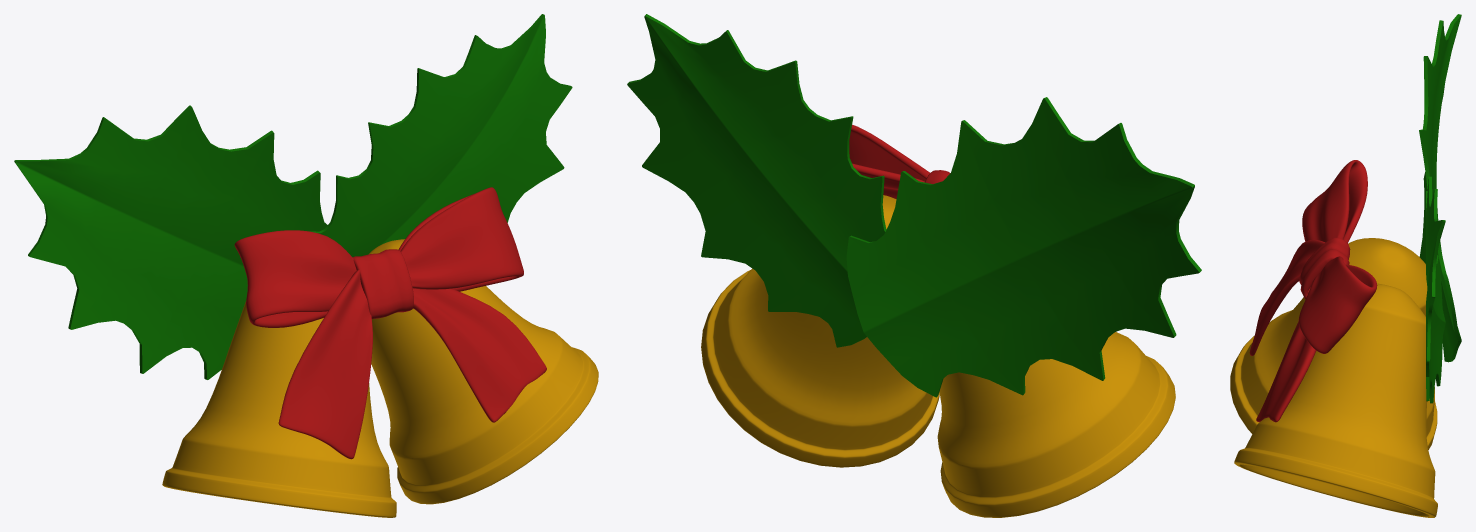
The model's file is christmas_bell.glb.
3 renders of one model, left to right at view 1: azimuth 30°, elevation 25°; view 2: azimuth 150°, elevation 25°; view 3: azimuth 270°, elevation 25°, orthographic. The views are drawn at different scales.
Visible parts, largest first — view 1: polySurface201, polySurface199, polySurface200, polySurface203, polySurface202, polySurface198; view 2: polySurface201, polySurface200, polySurface202, polySurface203, polySurface199; view 3: polySurface203, polySurface199, polySurface202, polySurface201, polySurface200, polySurface198.
Boxes of the visible parts, x1,y1,x2,y2 form: polySurface201: [14, 105, 327, 379]; polySurface199: [234, 187, 546, 459]; polySurface200: [310, 14, 572, 257]; polySurface203: [368, 239, 598, 504]; polySurface202: [162, 300, 396, 517]; polySurface198: [353, 249, 413, 318]; polySurface201: [846, 97, 1201, 397]; polySurface200: [627, 14, 886, 347]; polySurface202: [937, 332, 1175, 517]; polySurface203: [701, 195, 939, 467]; polySurface199: [849, 124, 930, 198]; polySurface203: [1234, 283, 1437, 517]; polySurface199: [1249, 160, 1377, 422]; polySurface202: [1230, 238, 1437, 449]; polySurface201: [1419, 14, 1461, 362]; polySurface200: [1426, 176, 1445, 403]; polySurface198: [1299, 237, 1350, 299].
Bounding box in the file's own units: 0.7433 × 0.5399 × 0.303.
